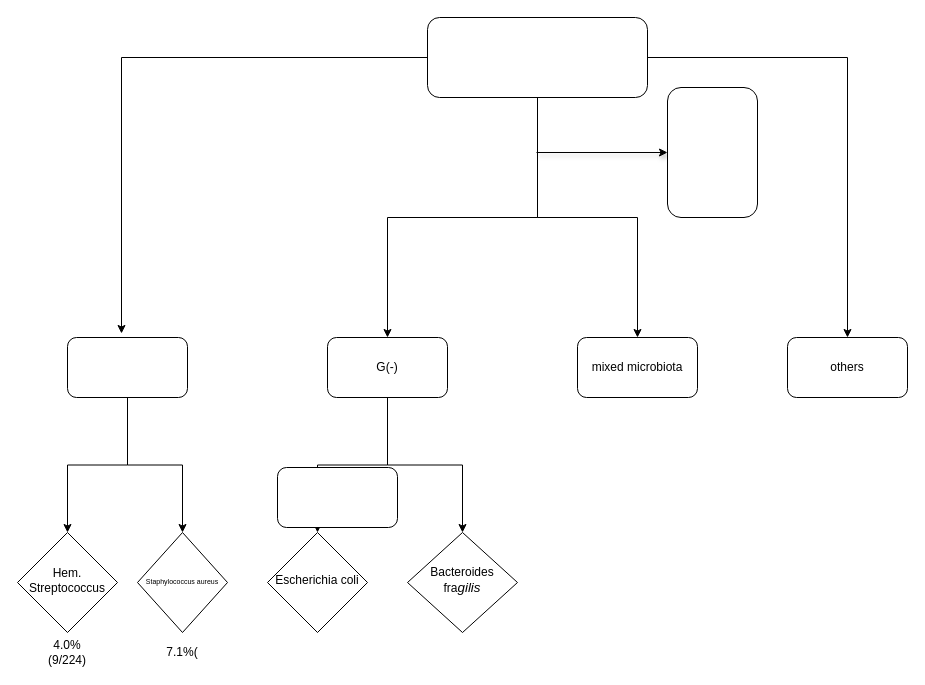
This 925x685 diagram has some shape labels left out. The centre of each missing label's shape, as x and y in pixels:
G(+): (x=127, y=367)
Of 16.5% patients's pus samples were negative for bacteria: (x=712, y=152)
Pus specimens from 224/475(47.2%) patients were gathered: (x=537, y=57)
